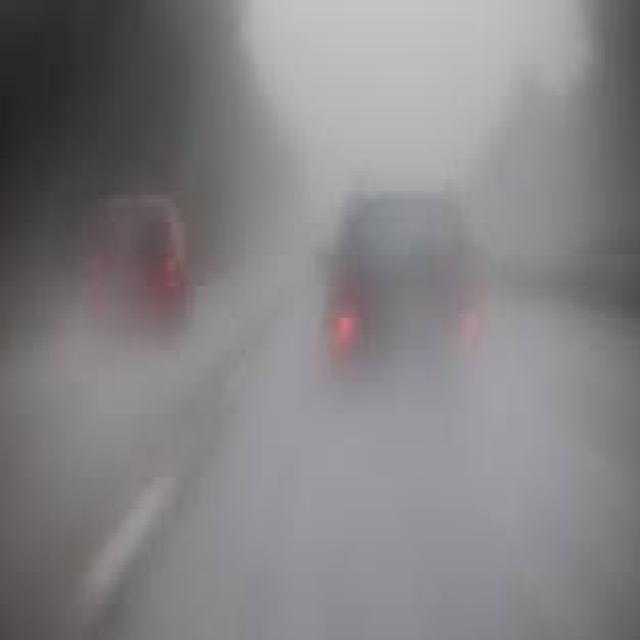Car: (316, 177, 496, 386), (86, 182, 196, 342)
